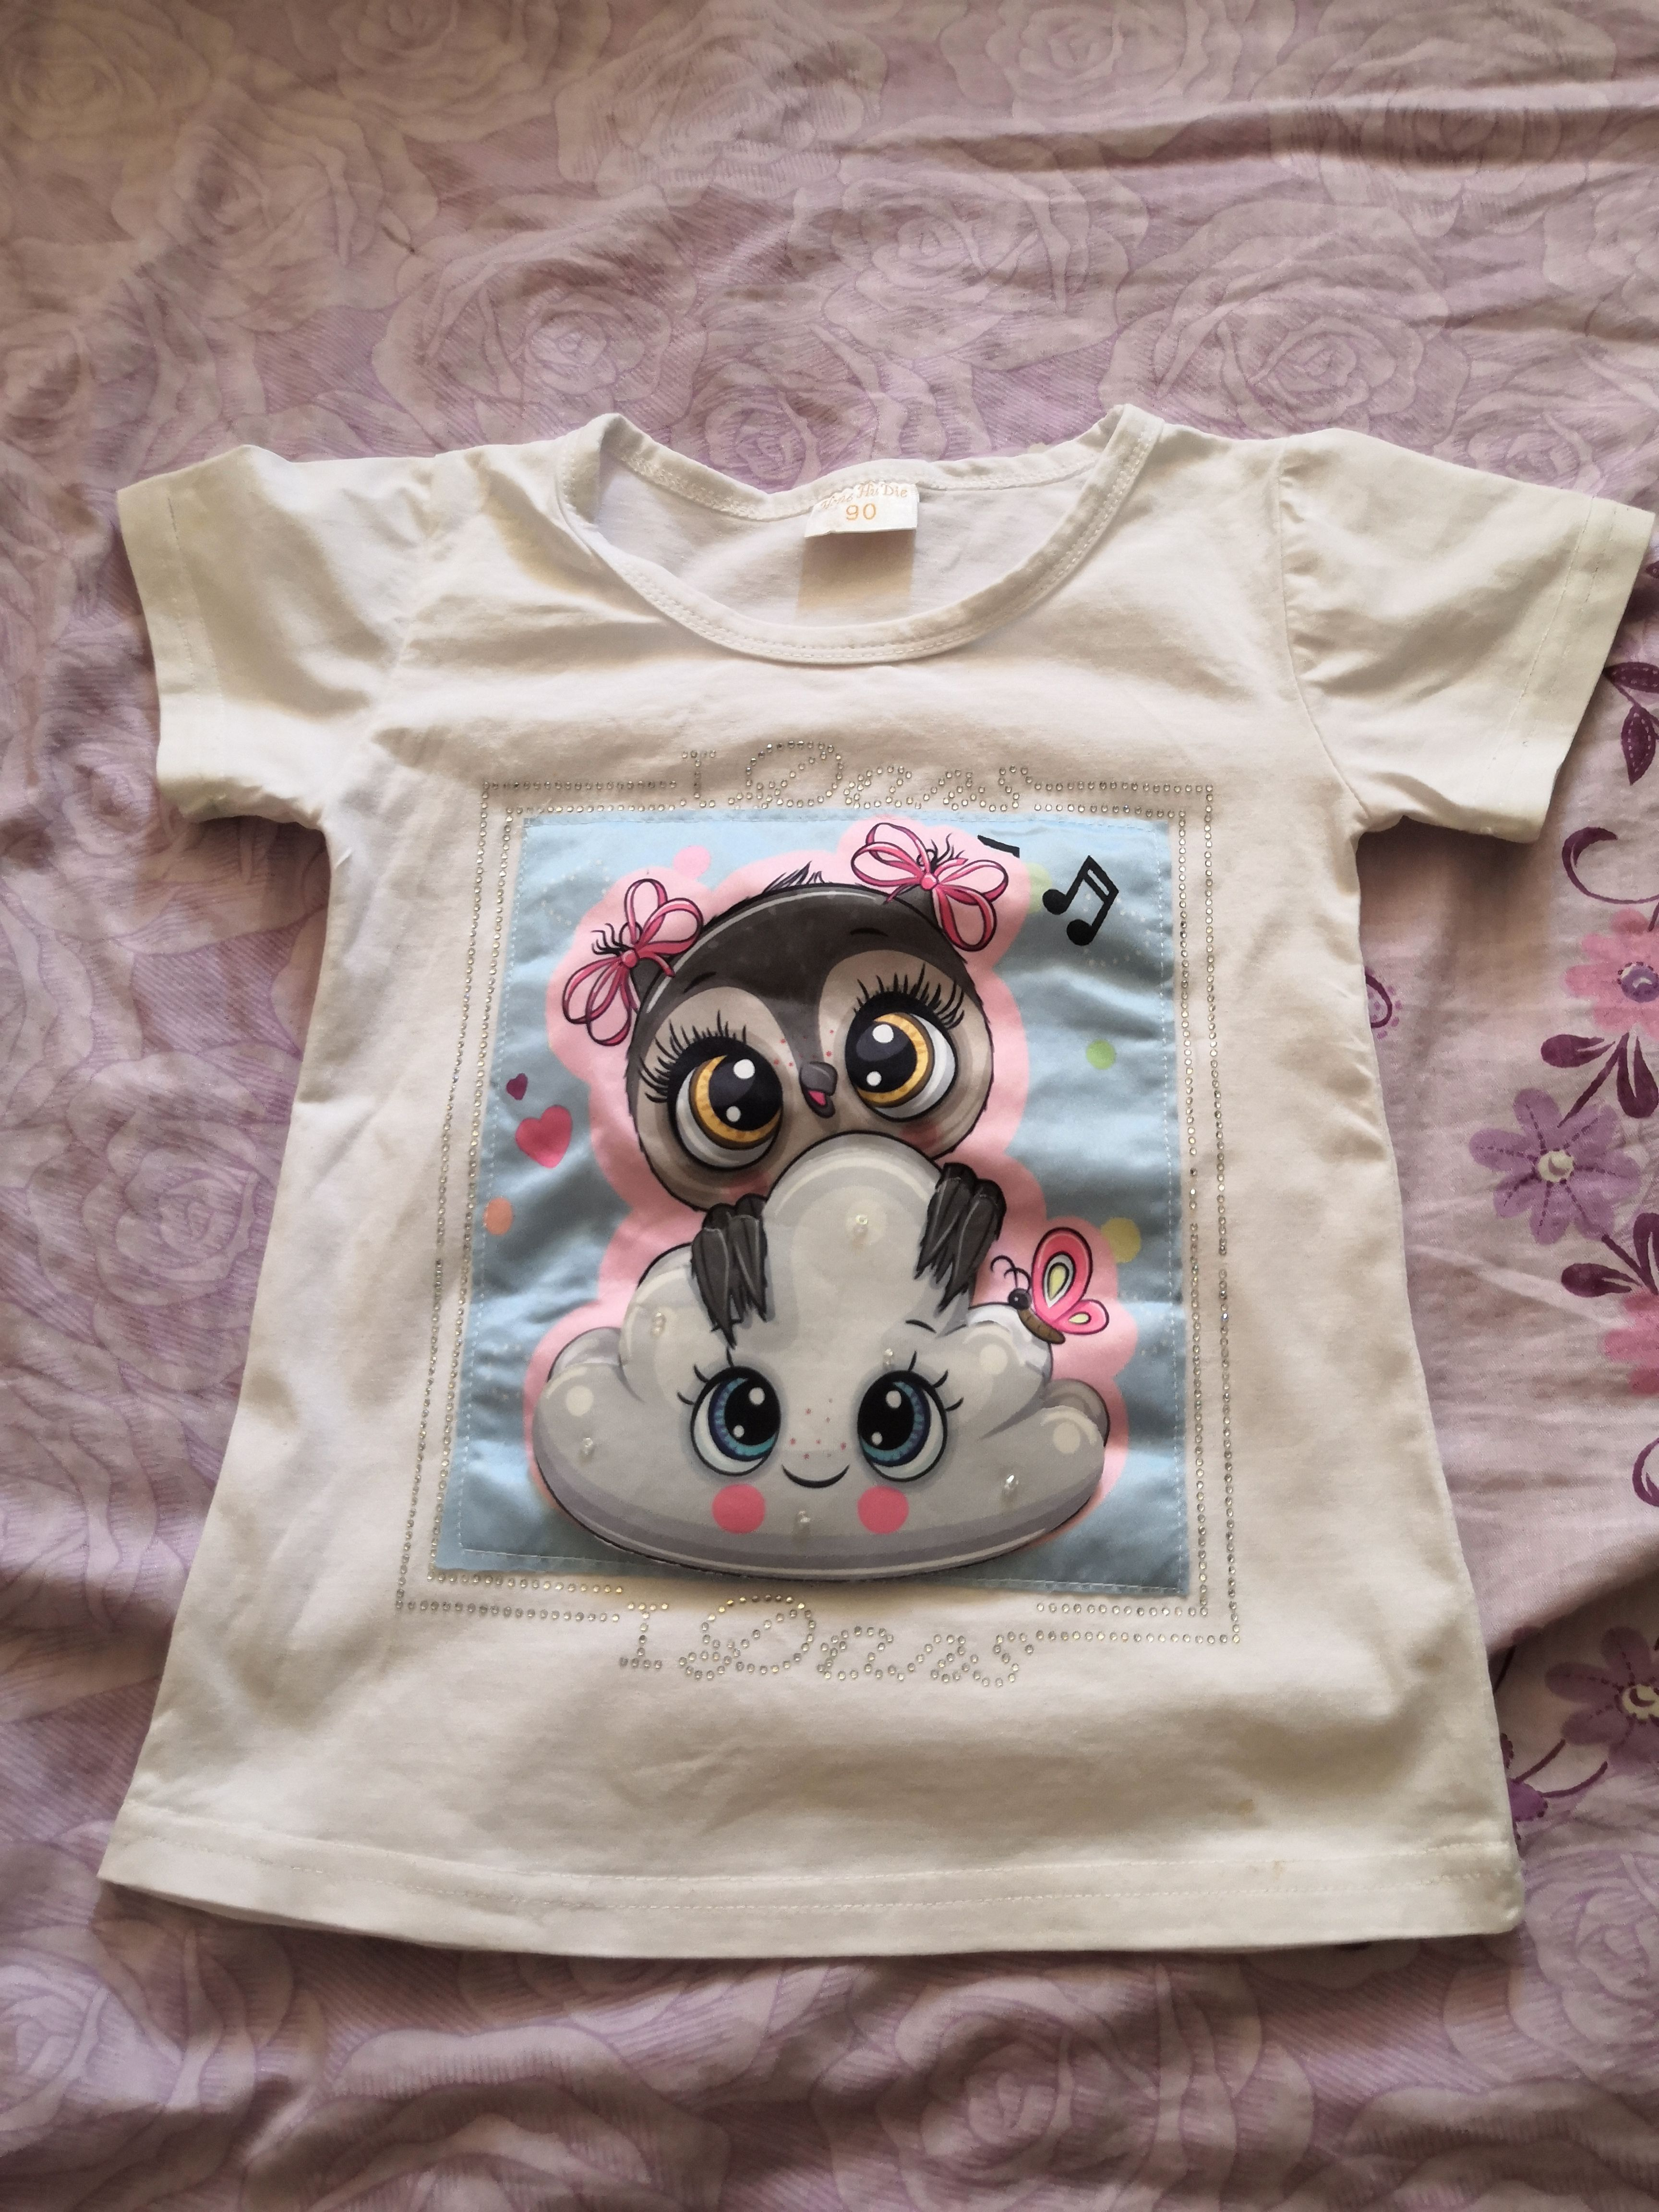clothes: (58, 409, 1621, 1970)
